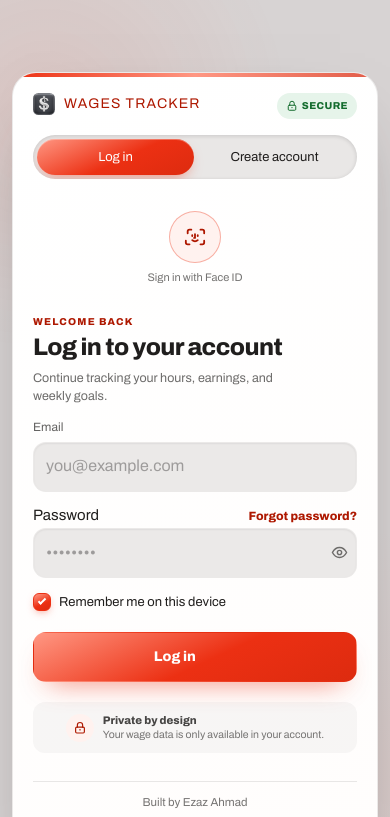
it: AuthScreen biometric icon › hides the icon in signup mode
Click the radio button labelled "Create account" at (274, 157), box [230,150,318,164]
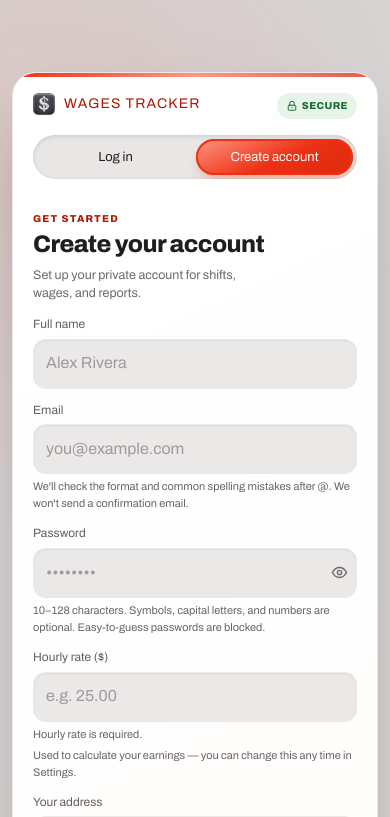
Expected: the text "Sign in with" is gone
